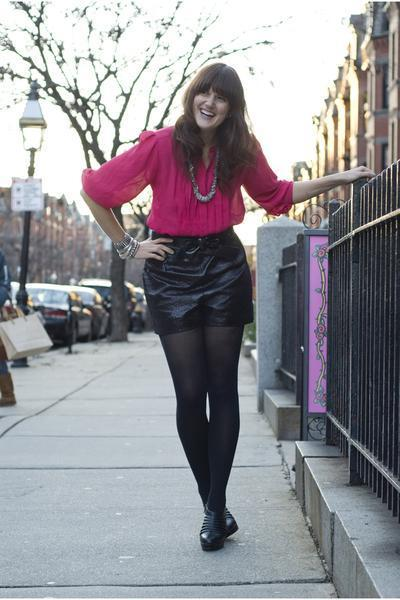shirt: (81, 134, 299, 235)
shoe: (200, 516, 238, 551)
skirt: (141, 226, 251, 337)
